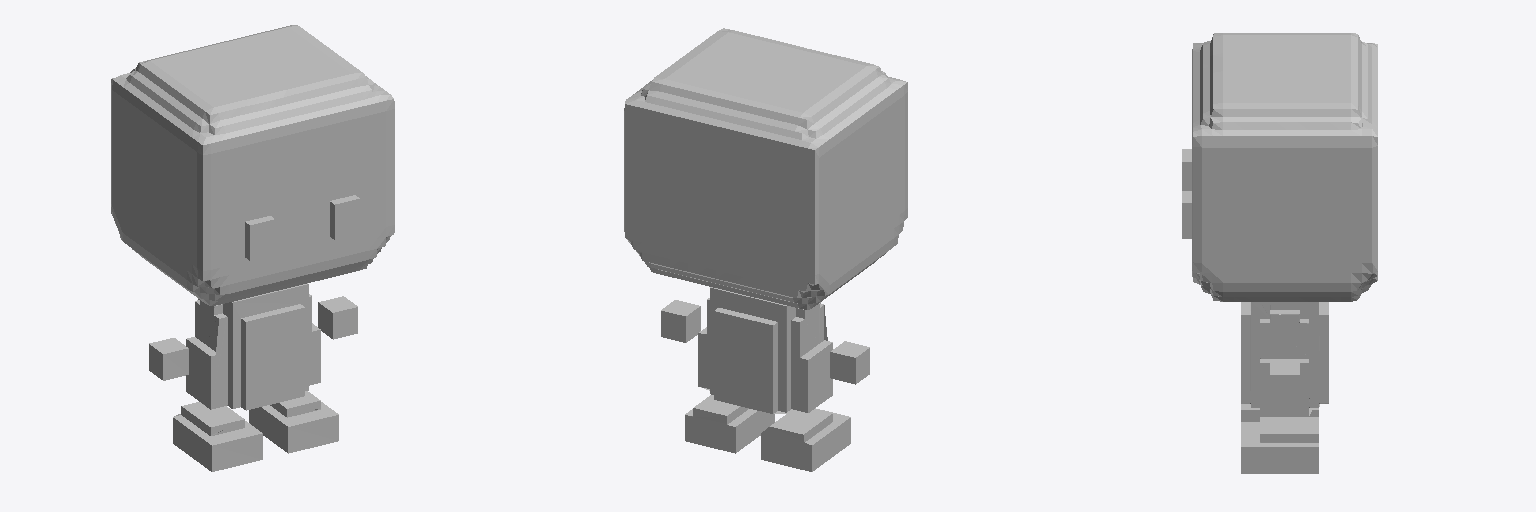
Rendered from Caesar.obj.
3 renders of one model, left to right at view 1: azimuth 30°, elevation 25°; view 2: azimuth 150°, elevation 25°; view 3: azimuth 270°, elevation 25°, orthographic.
Visible parts, largest first — view 1: 立方体.20211, 立方体.14063, 立方体.13578, 立方体.14329, 立方体.13922, 立方体.15422, eye_R.001, eye_L.002; view 2: 立方体.20211, 立方体.14063, 立方体.13578, 立方体.14329, 立方体.13922, 立方体.15422; view 3: 立方体.20211, 立方体.14063, 立方体.14329, 立方体.15422.
Part boxes in pixels (x1,y1,x2,y2): 立方体.20211: (111,25,394,305); 立方体.14063: (186,283,320,410); 立方体.13578: (173,402,262,471); 立方体.14329: (249,391,338,453); 立方体.13922: (149,338,188,380); 立方体.15422: (318,296,357,339); eye_R.001: (245,216,274,260); eye_L.002: (330,195,359,239); 立方体.20211: (624,28,907,309); 立方体.14063: (698,287,832,413); 立方体.13578: (761,408,850,471); 立方体.14329: (685,395,774,453); 立方体.13922: (830,341,869,384); 立方体.15422: (661,300,700,342); 立方体.20211: (1192,33,1377,301); 立方体.14063: (1241,302,1328,415); 立方体.14329: (1241,417,1318,473); 立方体.15422: (1270,362,1299,400).
Bounding box in the file's own units: 23 × 42 × 20.